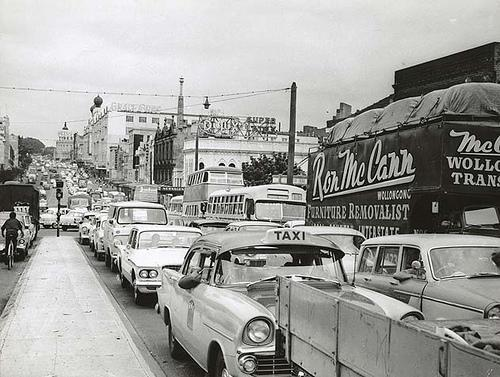bicycle: (6, 232, 16, 270)
bus: (206, 185, 306, 223), (180, 166, 246, 220)
car: (157, 230, 348, 374), (352, 232, 500, 321), (114, 224, 205, 308), (103, 201, 173, 272), (295, 227, 368, 283), (1, 212, 32, 260), (224, 220, 288, 234), (93, 214, 109, 262), (14, 210, 38, 241), (40, 208, 72, 228), (60, 209, 85, 232), (77, 216, 94, 248), (110, 192, 126, 202)
truck: (304, 82, 500, 236), (276, 276, 500, 377)
